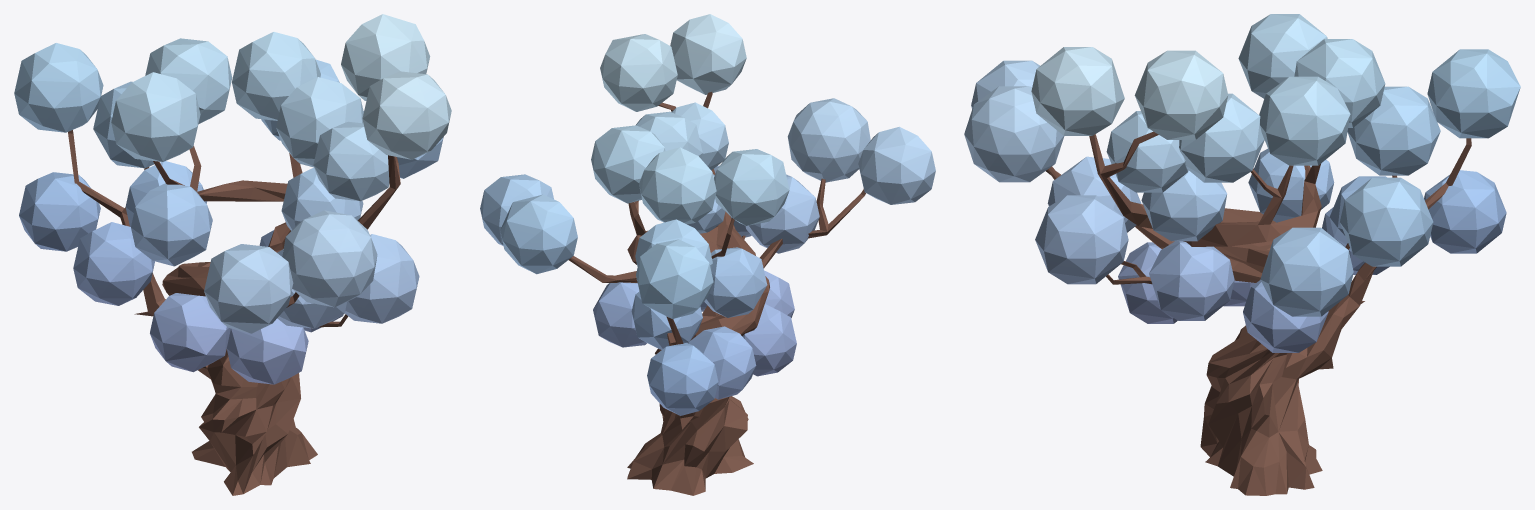
Rendered from tree.glb.
The picture shows the model from 3 angles, left to right: view 1: azimuth 30°, elevation 25°; view 2: azimuth 150°, elevation 25°; view 3: azimuth 270°, elevation 25°; orthographic projection. The views are drawn at different scales.
Parts seen in each view (by area): view 1: big_fabulous_tree_001; view 2: big_fabulous_tree_001; view 3: big_fabulous_tree_001.
Boxes of the visible parts, box(x1,y1,x2,y2) form: big_fabulous_tree_001: box(14, 14, 451, 495); big_fabulous_tree_001: box(480, 14, 935, 495); big_fabulous_tree_001: box(964, 14, 1520, 495).
Size of the model in its own units: 8.65 by 10.07 by 11.04.
1 material, 1 textured.
